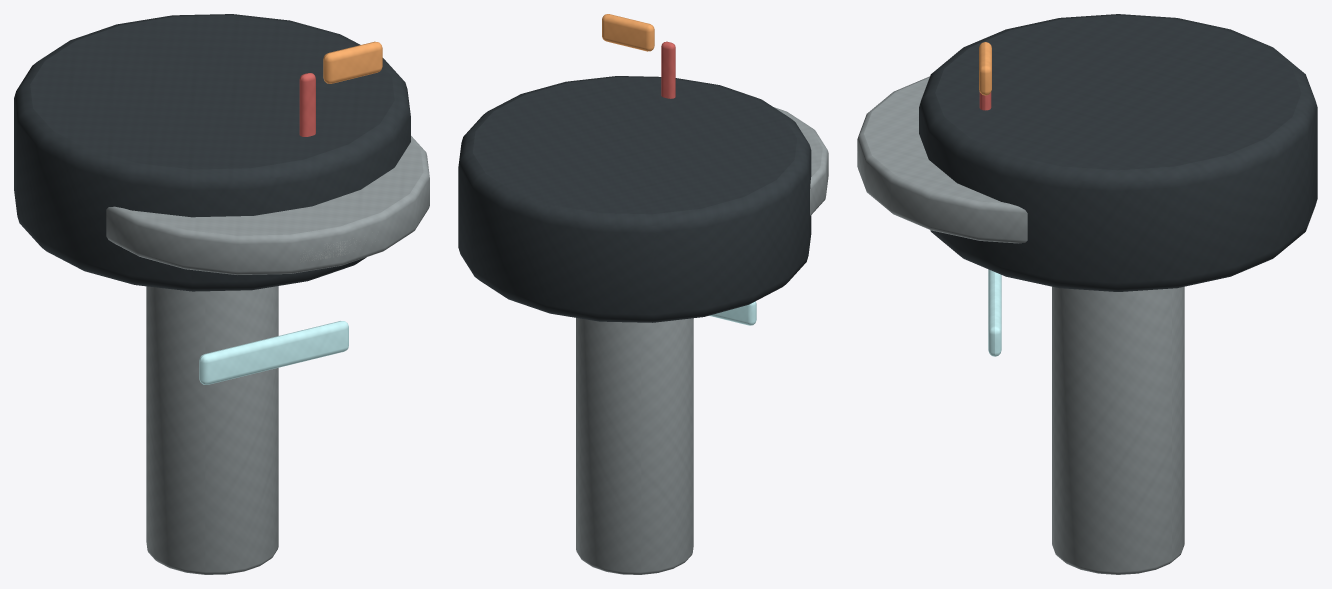
File: PressureGauge.glb
3 views of the same model, side by side, from view 1: azimuth 30°, elevation 25°; view 2: azimuth 150°, elevation 25°; view 3: azimuth 270°, elevation 25° (orthographic). The views are drawn at different scales.
Visible parts, largest first — view 1: PressureGauge_Mesh; view 2: PressureGauge_Mesh; view 3: PressureGauge_Mesh.
Part boxes in pixels (x1=…): PressureGauge_Mesh: x1=14, y1=14, x2=429, y2=574; PressureGauge_Mesh: x1=458, y1=14, x2=828, y2=574; PressureGauge_Mesh: x1=857, y1=14, x2=1317, y2=574.
Size of the model in its own units: 0.42 by 0.6175 by 0.485.
Materials: 6 (6 with a texture image).
